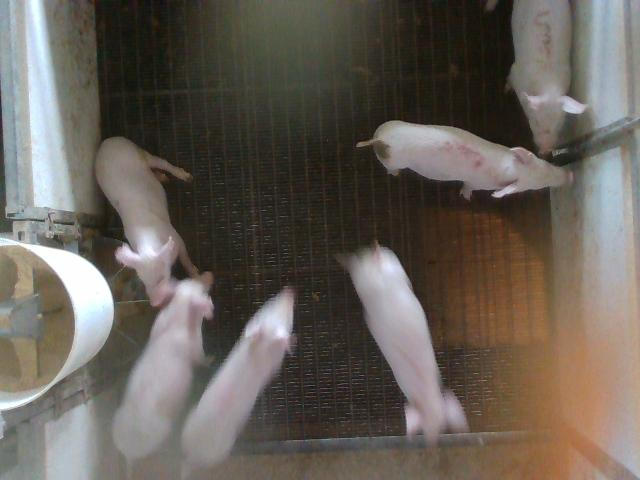pig-3: (506, 0, 588, 154)
pig-5: (358, 121, 572, 198)
